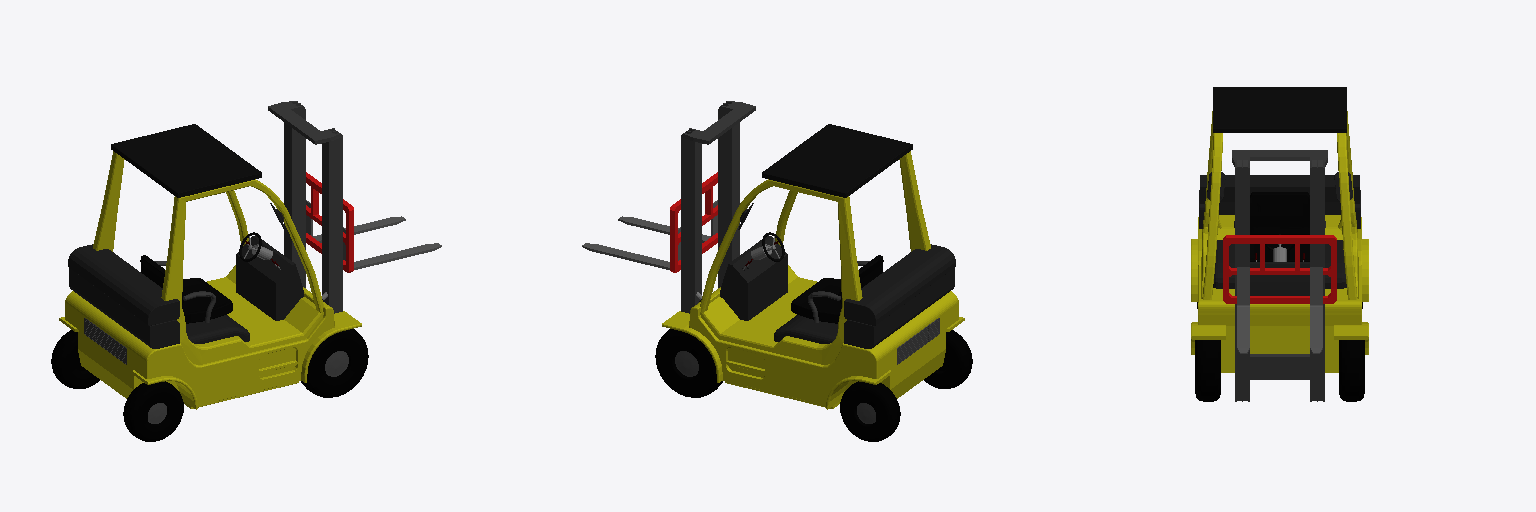
Rendered from forklift.obj.
3 views of the same model, side by side, from view 1: azimuth 30°, elevation 25°; view 2: azimuth 150°, elevation 25°; view 3: azimuth 270°, elevation 25° (orthographic).
Parts seen in each view (by area): view 1: Forklift_Cube.012; view 2: Forklift_Cube.012; view 3: Forklift_Cube.012.
Boxes of the visible parts, <box> form: Forklift_Cube.012: <box>51,101,441,441</box>; Forklift_Cube.012: <box>582,101,972,441</box>; Forklift_Cube.012: <box>1191,87,1368,401</box>.
Bounding box in the file's own units: 4.03 × 2.87 × 1.87.